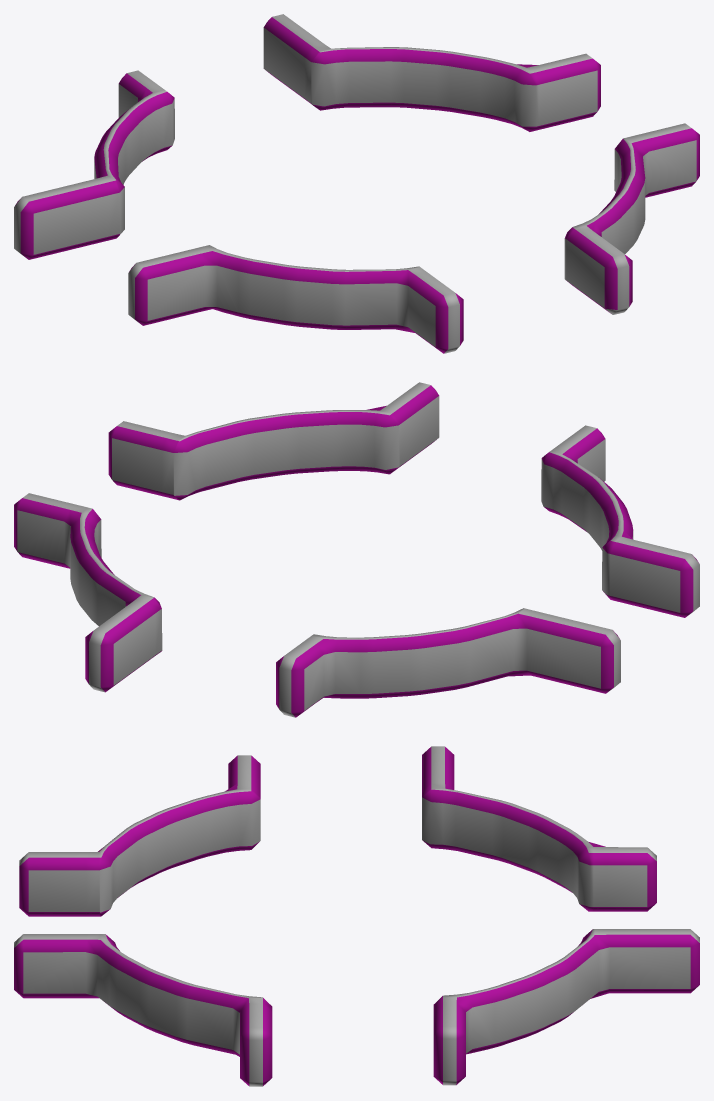
Rendered from altar_piece.fbx.
3 renders of one model, top to bottom at view 1: azimuth 30°, elevation 25°; view 2: azimuth 150°, elevation 25°; view 3: azimuth 270°, elevation 25°, orthographic.
Visible parts, largest first — view 1: polySurface13; view 2: polySurface13; view 3: polySurface13.
Boxes of the visible parts, x1,y1,x2,y2 form: polySurface13: [14, 14, 699, 353]; polySurface13: [14, 382, 699, 717]; polySurface13: [14, 746, 699, 1086].
Size of the model in its own units: 10.57 by 1 by 10.59.
